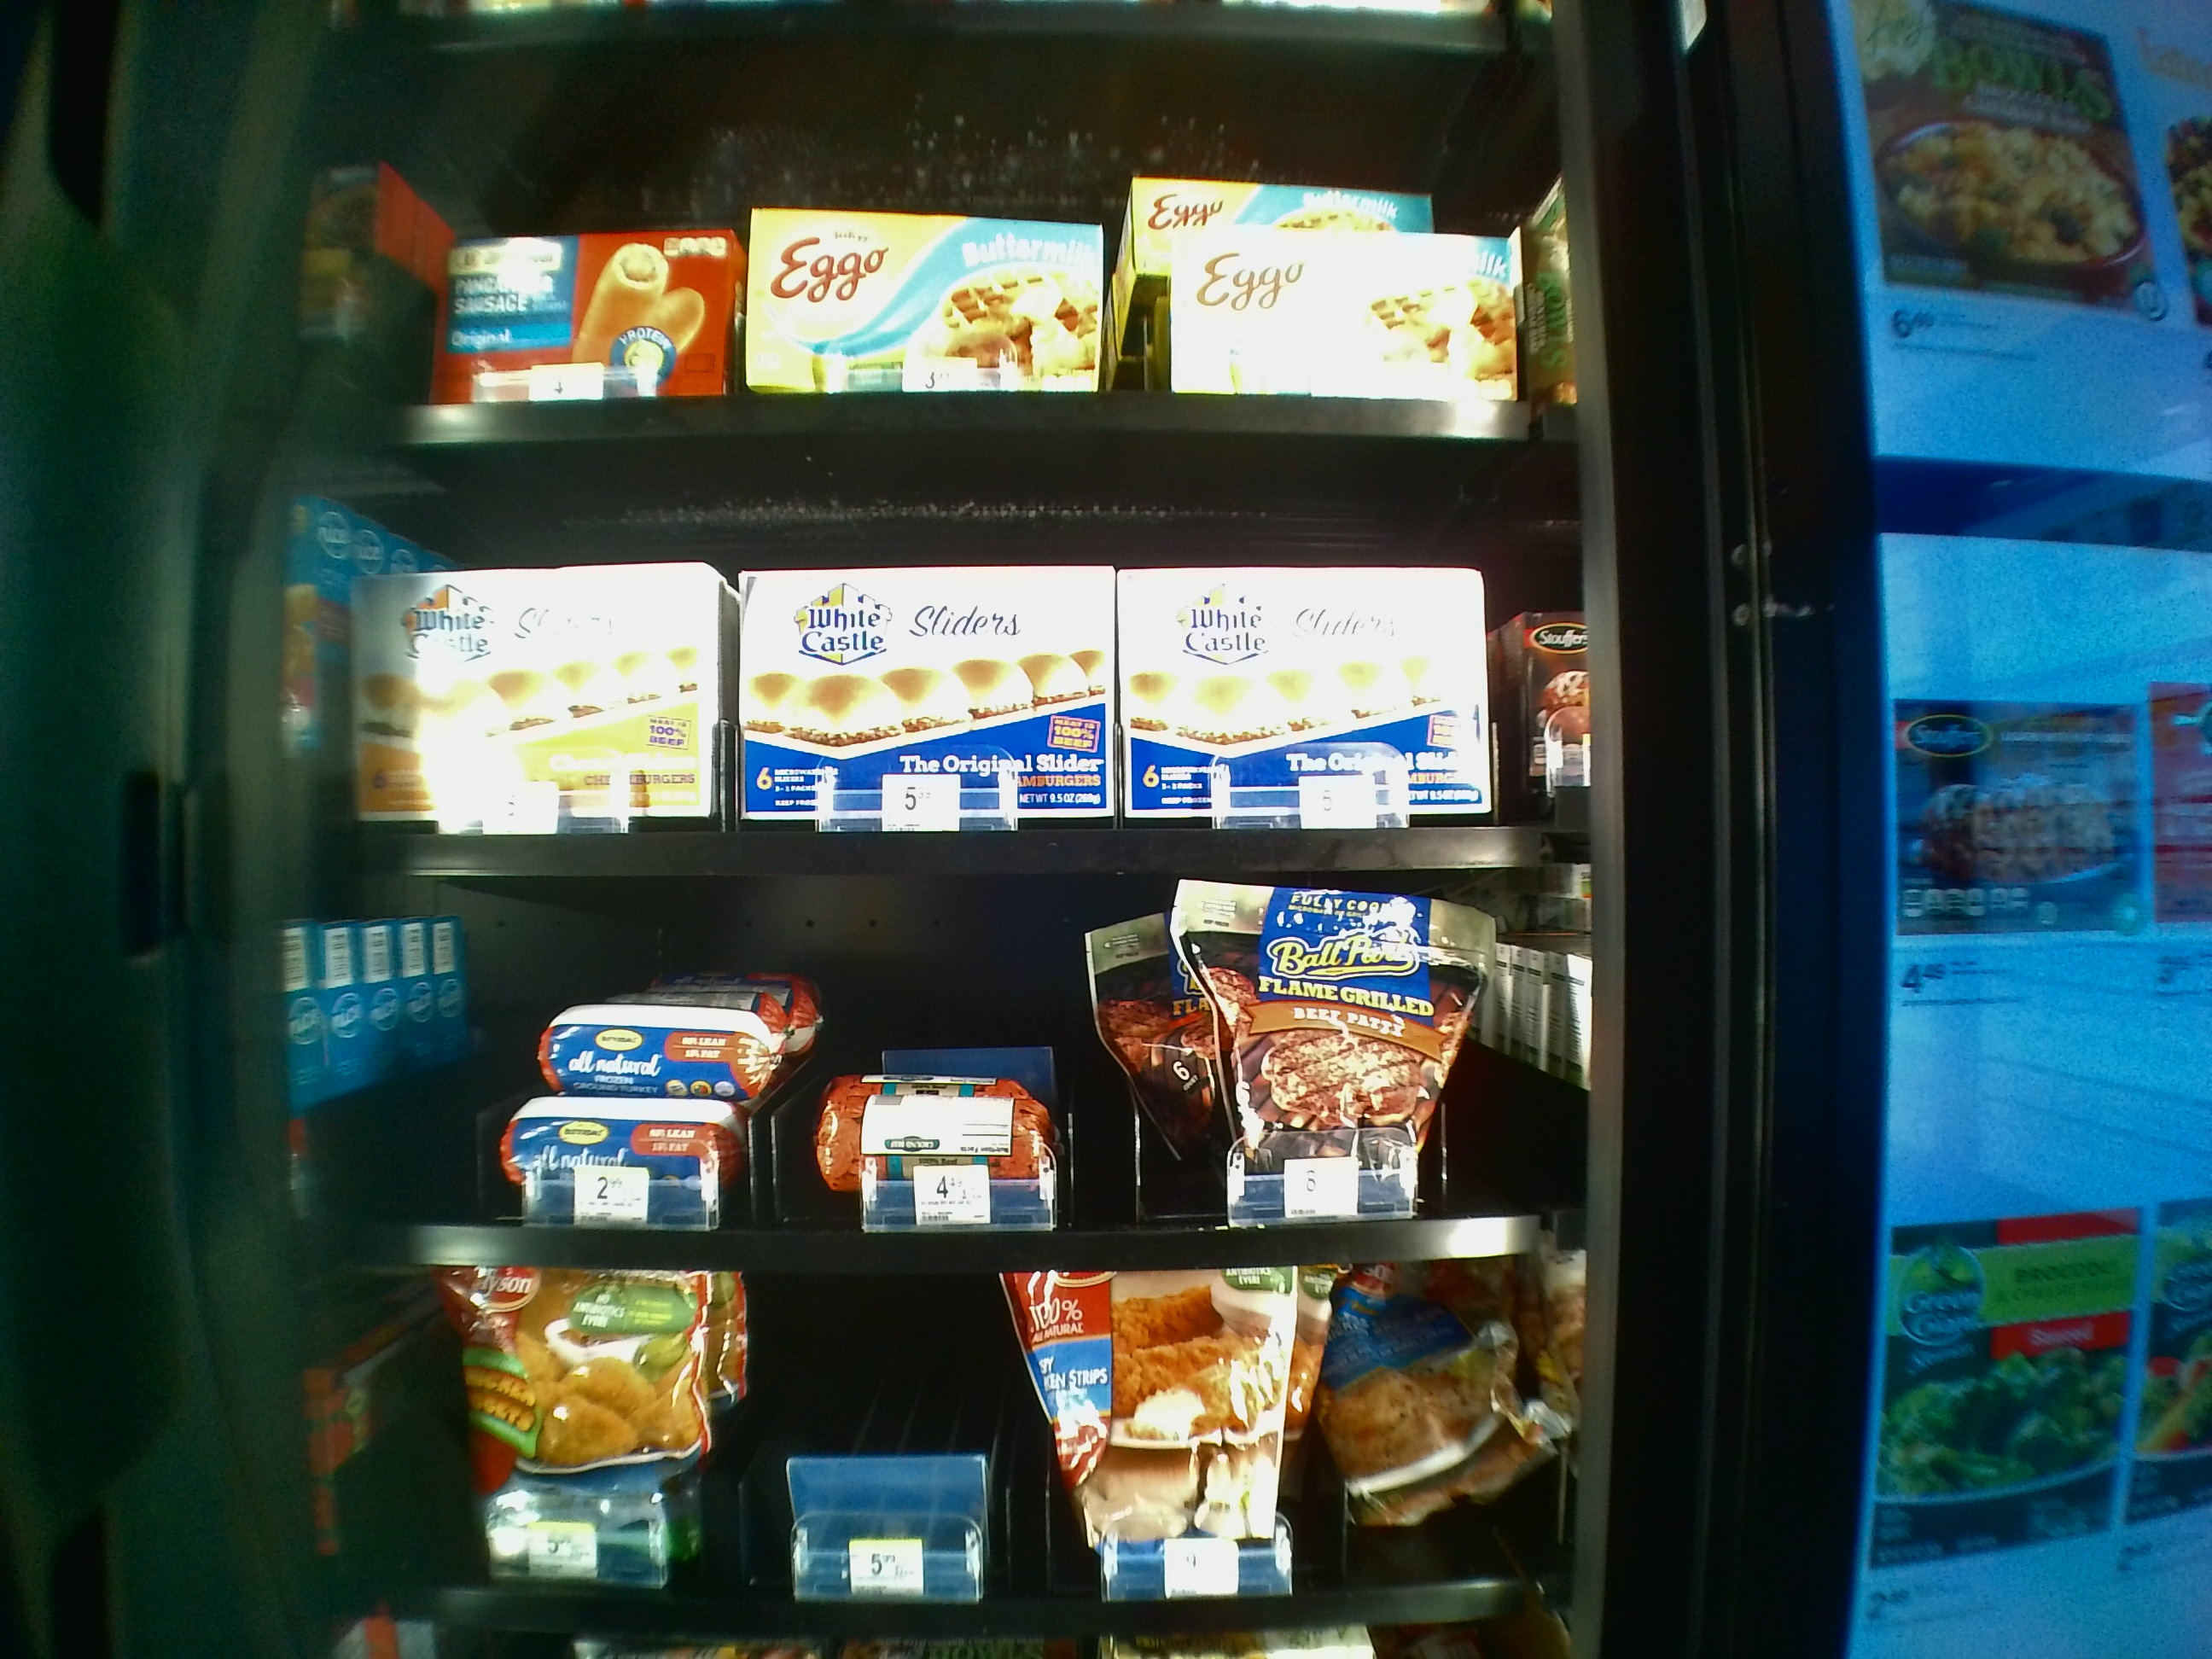shelf: (315, 446, 1569, 871), (315, 873, 1576, 1274)
